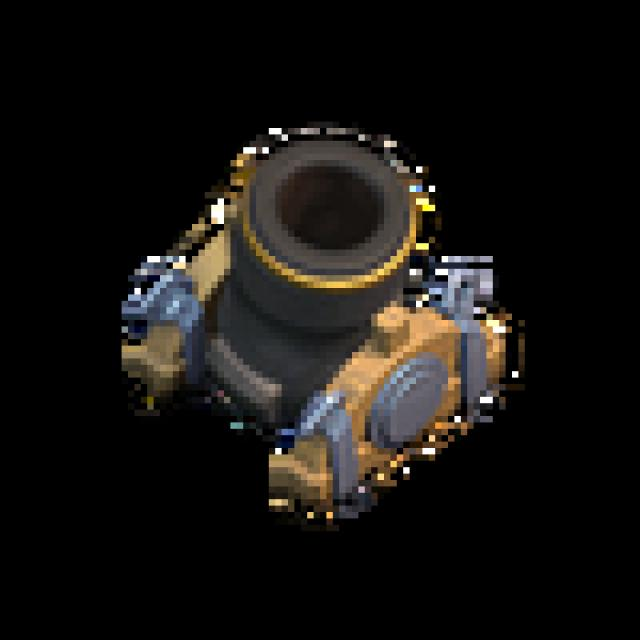mortar: (67, 75, 584, 547)
